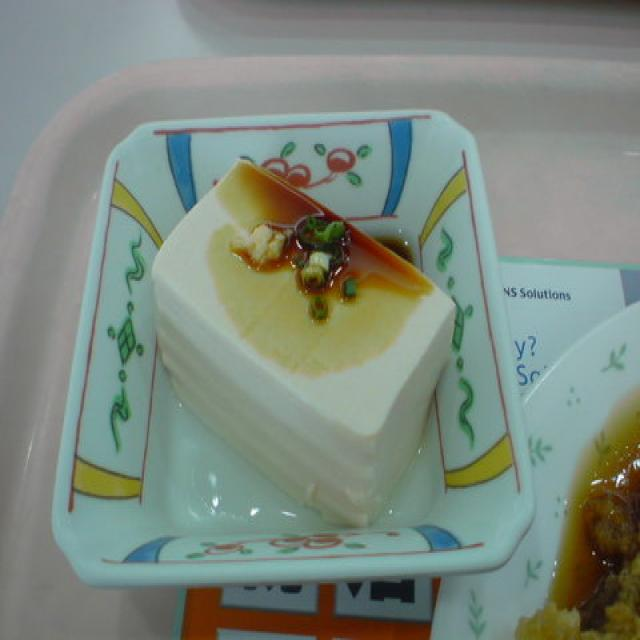豆腐料理: (60, 108, 513, 594)
